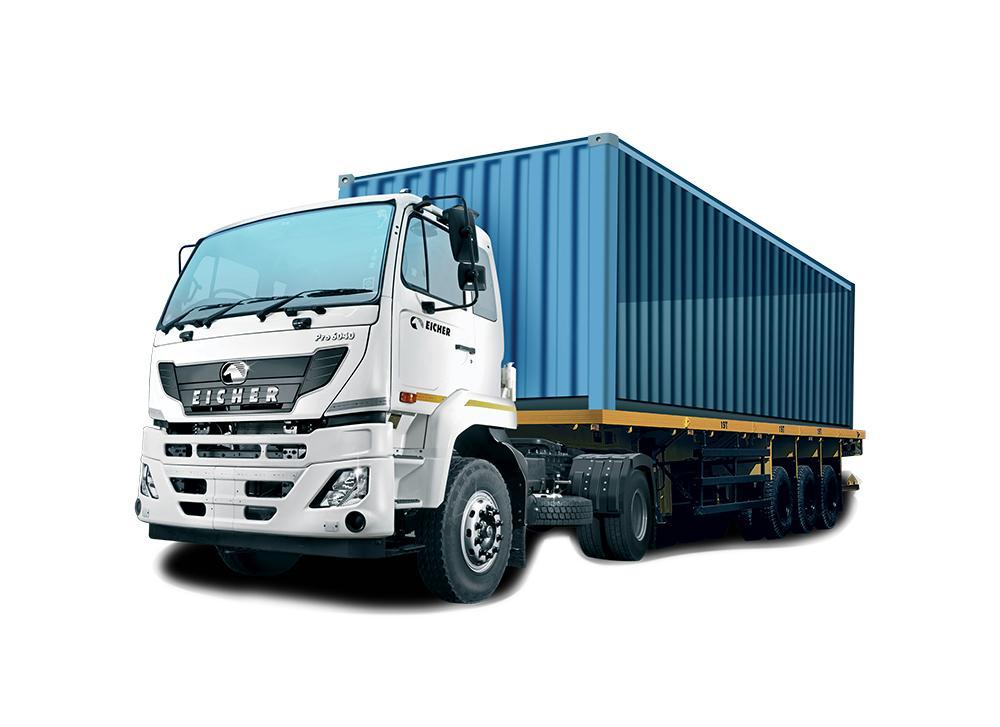truck: (133, 132, 865, 603)
